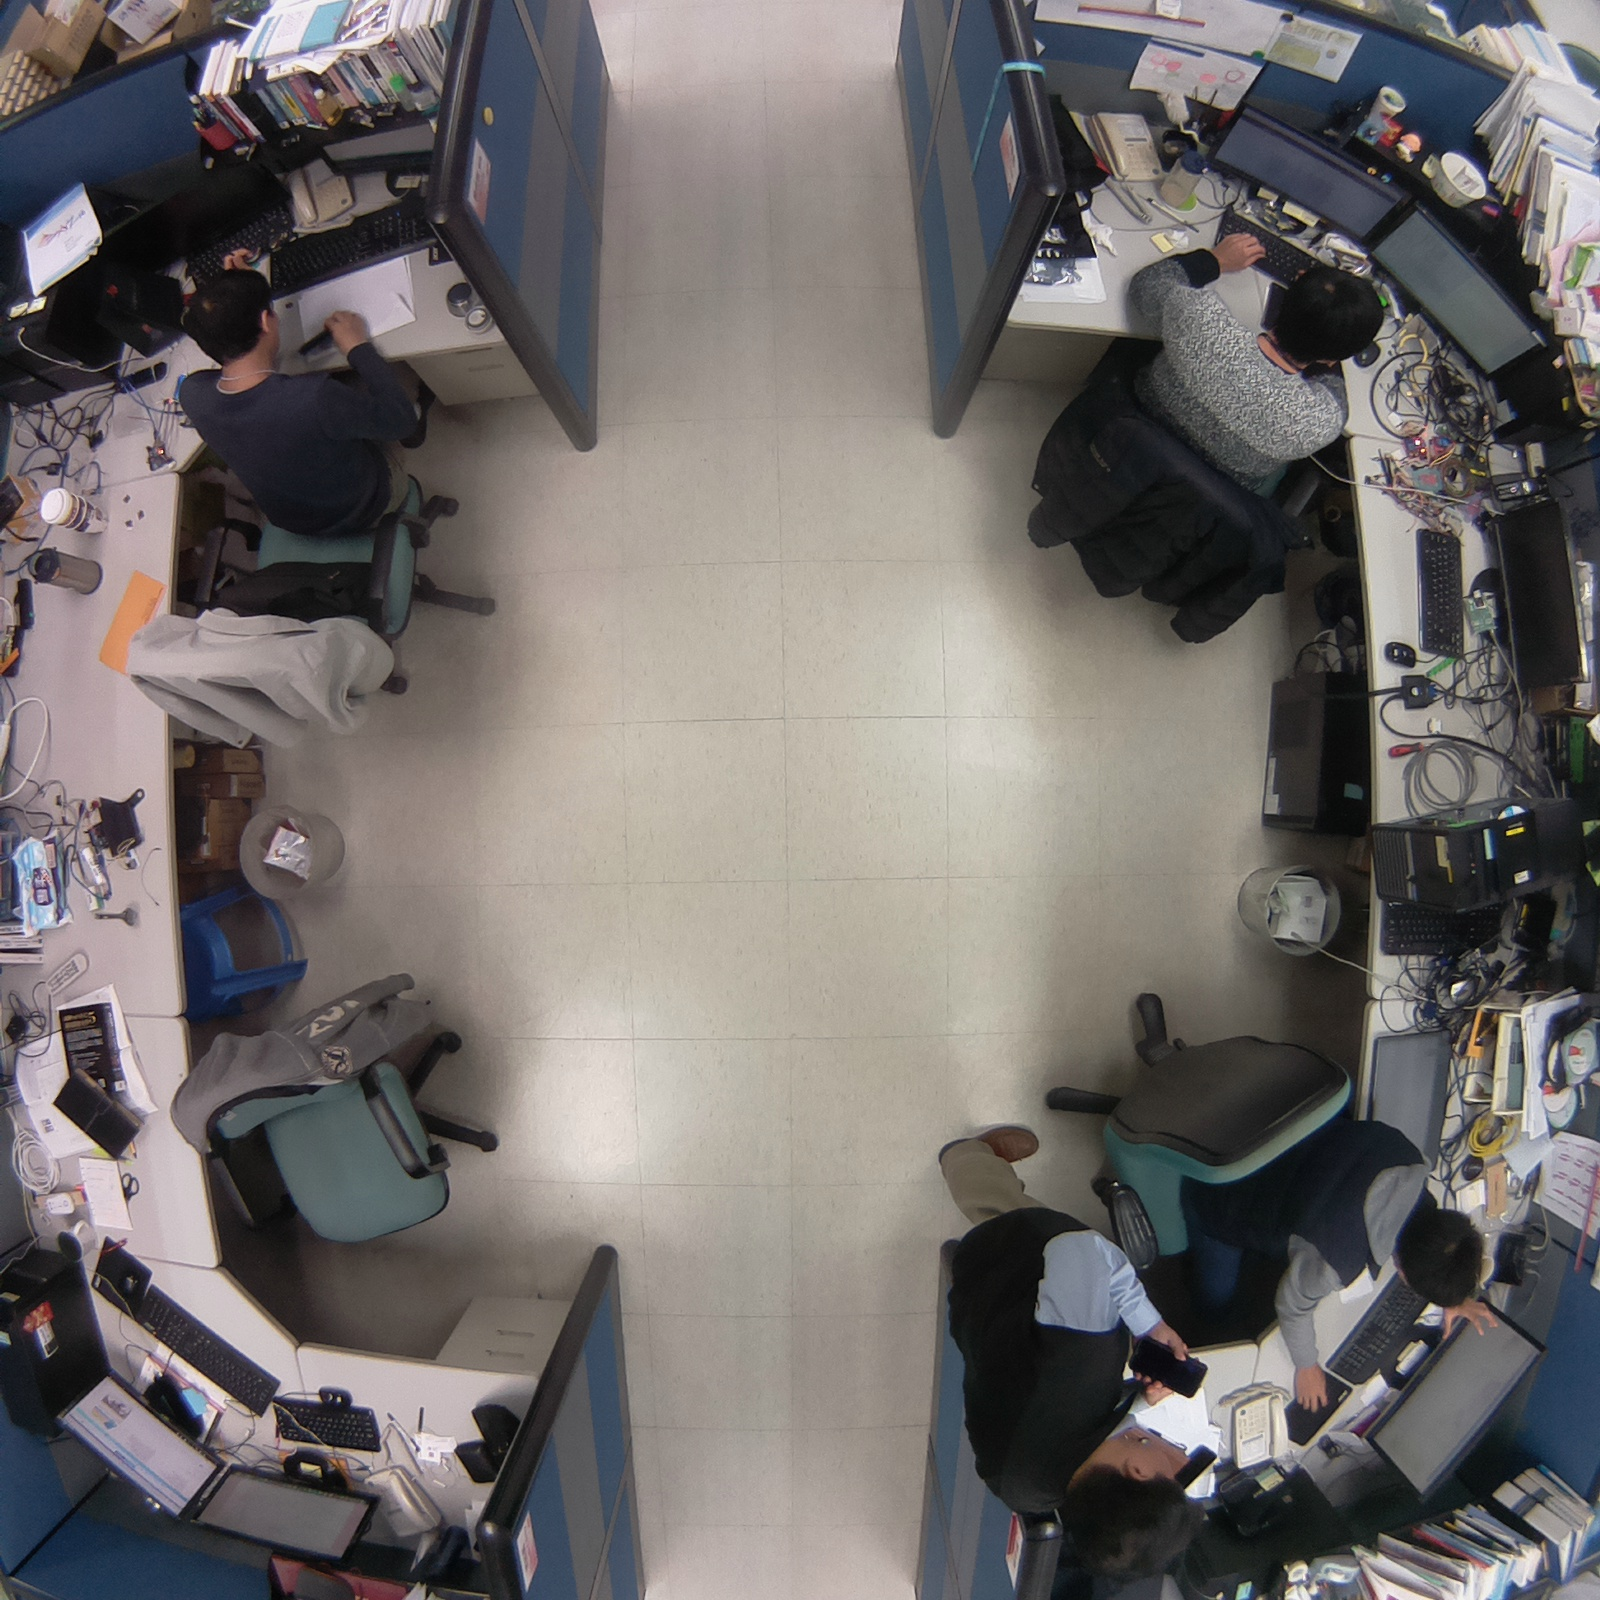chair: (160, 955, 527, 1278)
head: (1061, 1455, 1206, 1593), (1266, 259, 1387, 374), (176, 259, 283, 370), (1393, 1195, 1489, 1317)
sitting: (1029, 970, 1501, 1414), (109, 260, 512, 768), (1014, 232, 1388, 660)
standing: (917, 1109, 1222, 1600)
